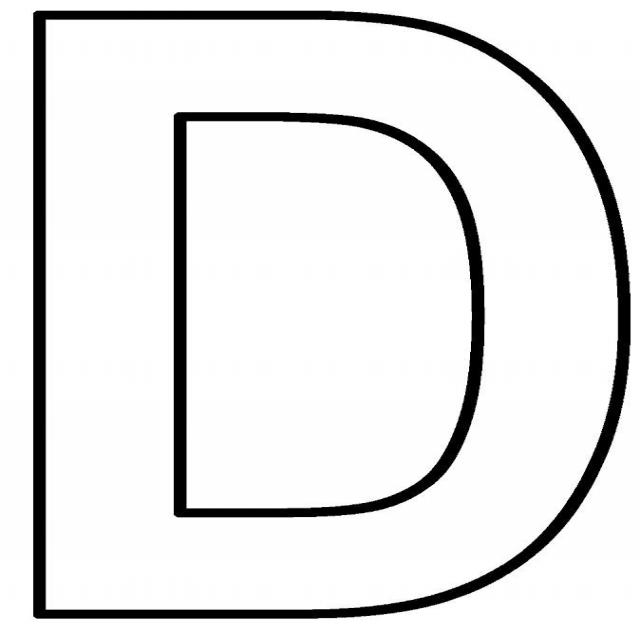D: (17, 3, 640, 636)
